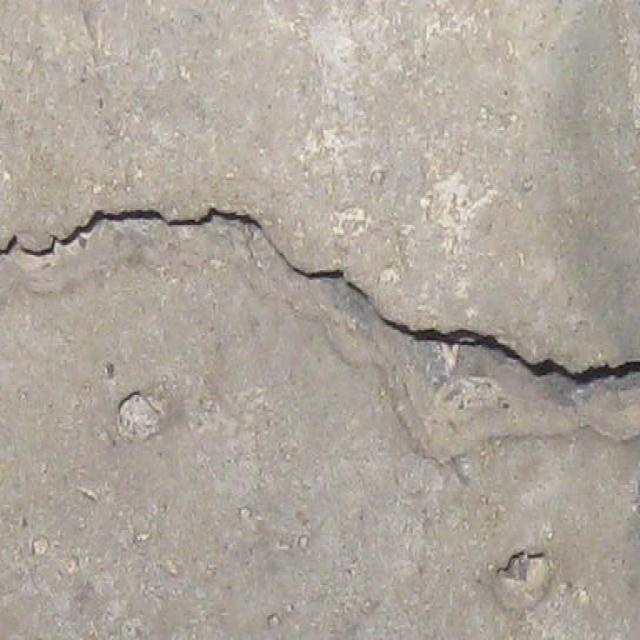Rippled: (118, 390, 168, 445), (495, 550, 555, 591)
Transverse: (4, 200, 640, 390)
